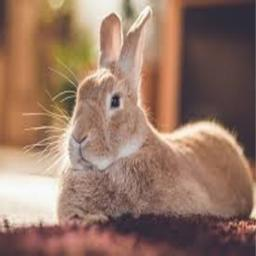rabbit: (57, 6, 253, 223)
